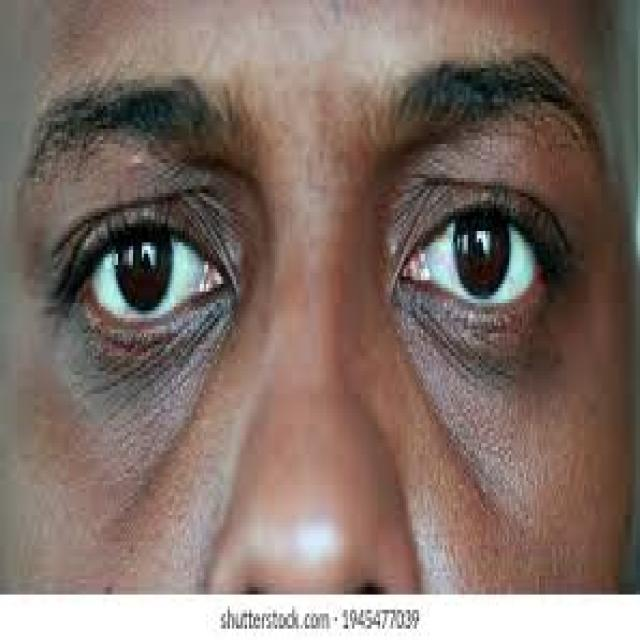high: (48, 322, 236, 448), (401, 311, 556, 401)
